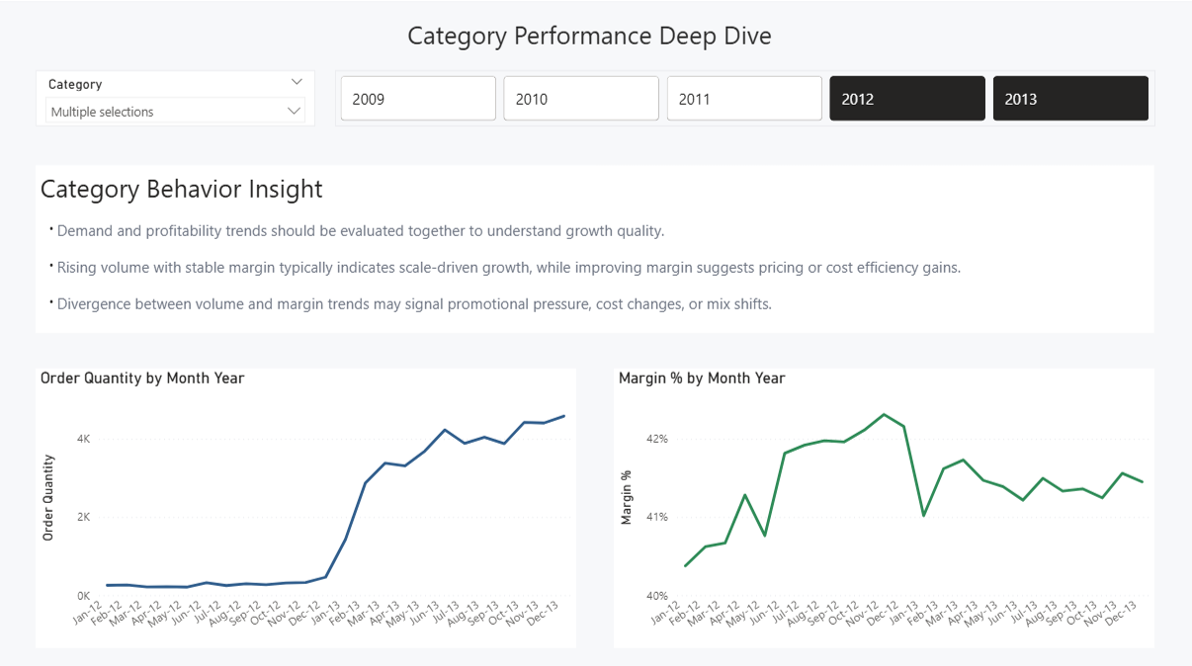

Layout of this report page (visuals, bound fields, positions):
{"tool":"powerbi","page":{"name":"Category Performance","canvas":[1280,720],"ordinal":1},"visuals":[{"type":"slicer","fields":{"Values":["Product.Category"]},"box":[38.9,81.1,300,60],"z":0},{"type":"advancedSlicerVisual","fields":{"Values":["Date.Calendar Year"]},"box":[358.9,81.1,880,60],"z":1000},{"type":"lineChart","fields":{"Category":["Date.Month Year"],"Y":["_Measures 1.Margin %"]},"box":[658.9,401.1,580,300],"z":2000},{"type":"lineChart","fields":{"Category":["Date.Month Year"],"Y":["_Measures 1.Order Quantity"]},"box":[38.9,401.1,580,300],"z":3000},{"type":"textbox","box":[396.7,18.3,473.3,48.3],"z":4000},{"type":"textbox","box":[38.3,183.3,1200,180],"z":5000}]}

Visuals, with their boxes in screenshot pixels (x1, y1, x2, y2), scaled from the page's 1280x720 canvas onto the 1192x666 screenshot:
slicer - Product.Category: (left=36, top=75, right=316, bottom=131)
advancedSlicerVisual - Date.Calendar Year: (left=334, top=75, right=1154, bottom=131)
lineChart - Date.Month Year x _Measures 1.Margin %: (left=614, top=371, right=1154, bottom=649)
lineChart - Date.Month Year x _Measures 1.Order Quantity: (left=36, top=371, right=576, bottom=649)
textbox: (left=369, top=17, right=810, bottom=62)
textbox: (left=36, top=170, right=1153, bottom=336)
